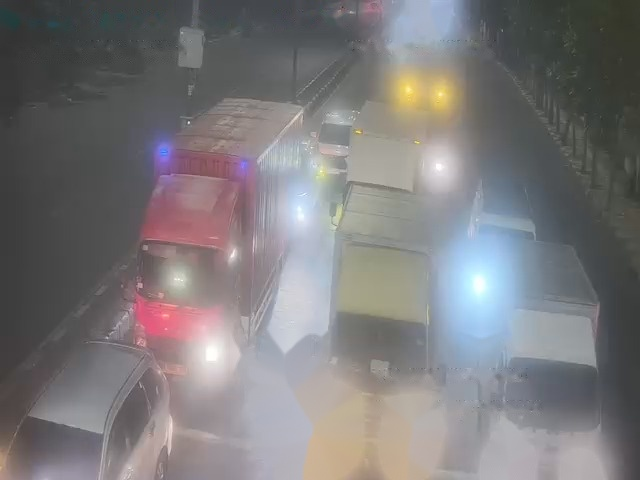Mobil: (497, 246, 604, 480), (4, 339, 161, 477), (463, 176, 541, 291), (148, 441, 272, 480), (314, 103, 362, 175)
Truk: (142, 83, 290, 382), (335, 173, 451, 450), (337, 70, 459, 197)
